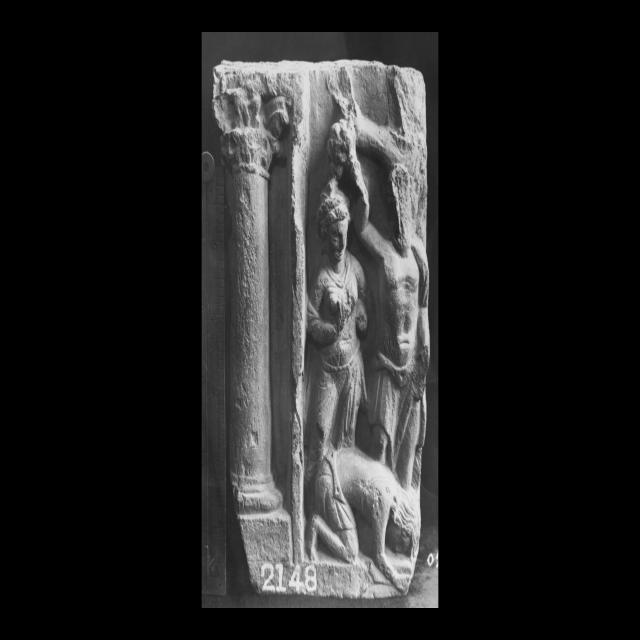buddha-standing: (305, 178, 367, 491)
